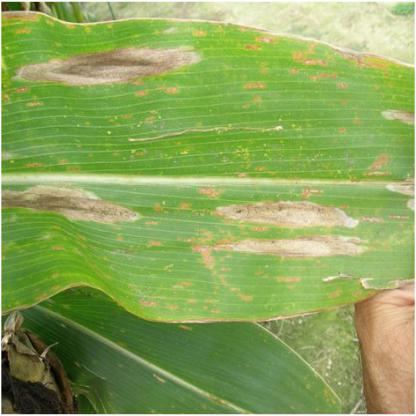corn leaf blight: (3, 10, 415, 328)
